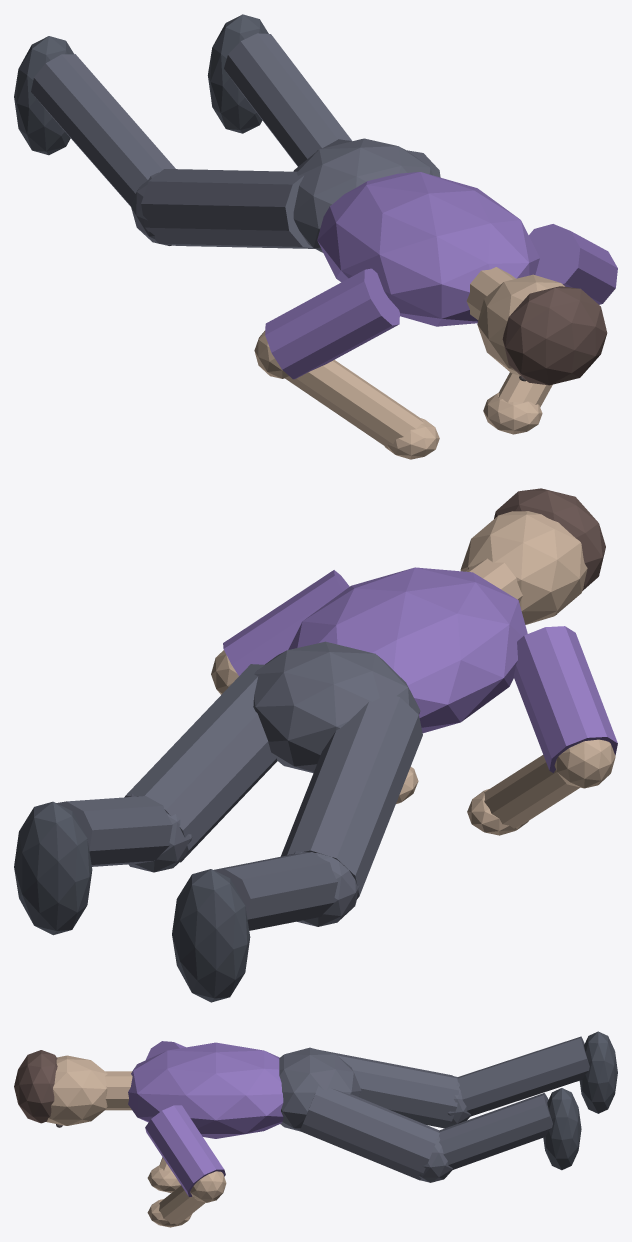
3 views of the same model, one above another, from view 1: azimuth 30°, elevation 25°; view 2: azimuth 150°, elevation 25°; view 3: azimuth 270°, elevation 25° (orthographic). The views are drawn at different scales.
Parts seen in each view (by area): view 1: world; view 2: world; view 3: world.
Part boxes in pixels (<box>): world: <box>14,14,617,459</box>; world: <box>14,488,617,1002</box>; world: <box>14,1031,617,1227</box>.
Size of the model in its own units: 0.93 by 0.565 by 1.99.
